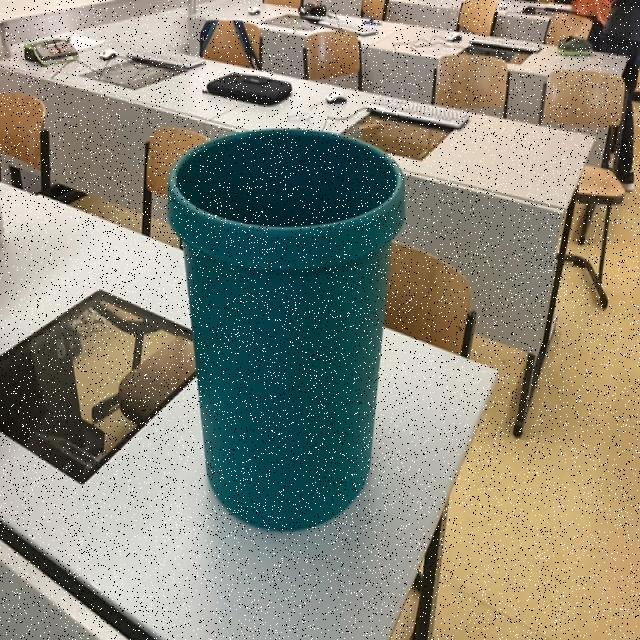garbage container: (136, 91, 412, 551)
